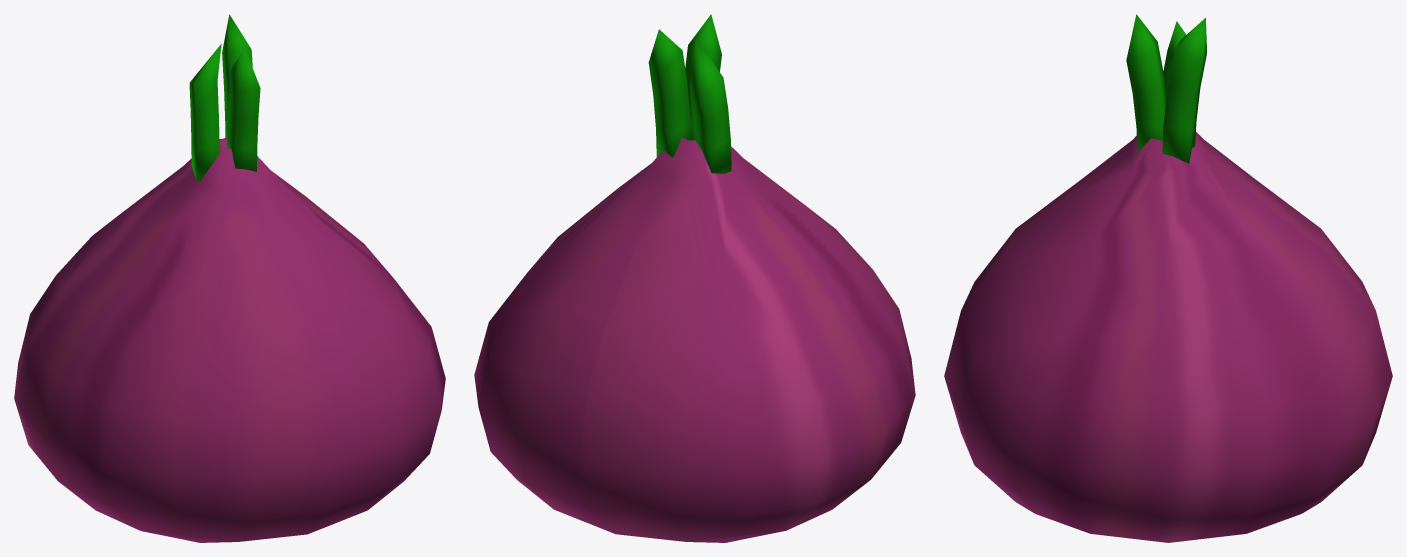
The model's file is CEBOLLA.fbx.
The picture shows the model from 3 angles, left to right: view 1: azimuth 30°, elevation 25°; view 2: azimuth 150°, elevation 25°; view 3: azimuth 270°, elevation 25°; orthographic projection. The views are drawn at different scales.
Visible parts, largest first — view 1: CEBOLLA; view 2: CEBOLLA; view 3: CEBOLLA.
Boxes of the visible parts, bbox=[...] form: CEBOLLA: bbox=[14, 14, 445, 542]; CEBOLLA: bbox=[474, 14, 915, 542]; CEBOLLA: bbox=[944, 14, 1392, 542].
Size of the model in its own units: 7.44 by 9.21 by 7.44.
Materials: 2 (1 with a texture image).
